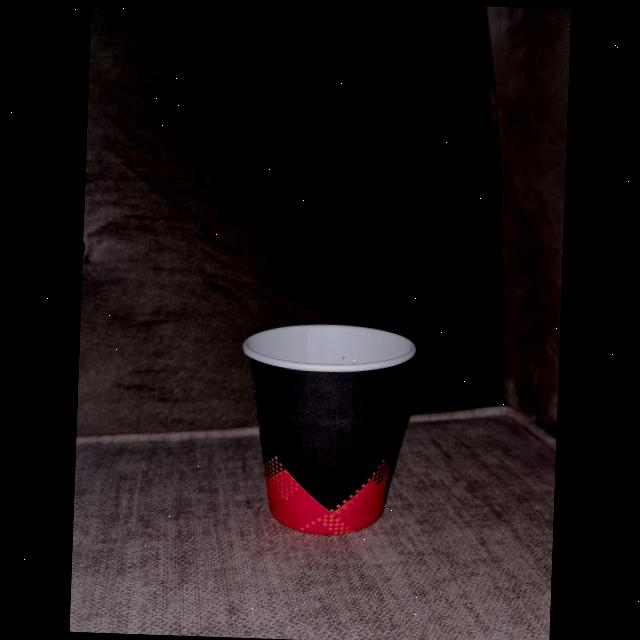trash: (242, 324, 420, 537)
